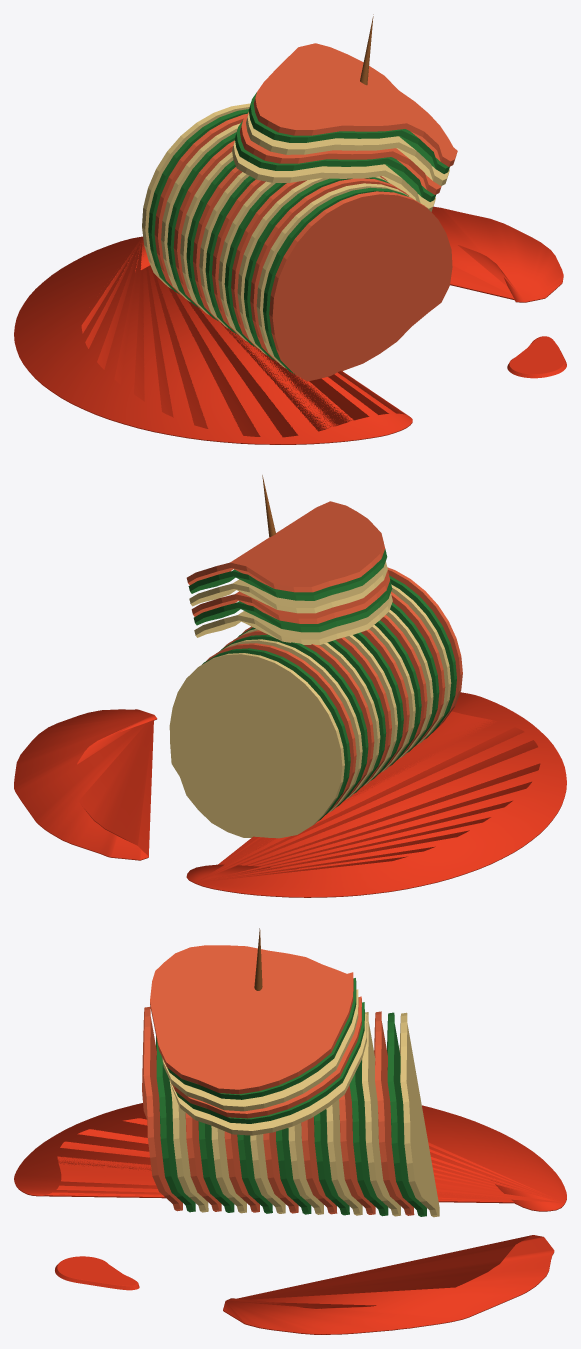
Rendered from food_ratatouille.fbx.
3 renders of one model, top to bottom at view 1: azimuth 30°, elevation 25°; view 2: azimuth 150°, elevation 25°; view 3: azimuth 270°, elevation 25°, orthographic. The views are drawn at different scales.
Visible parts, largest first — view 1: ratatouille_food; view 2: ratatouille_food; view 3: ratatouille_food.
Part boxes in pixels (box(x1,y1,x2,y2)): ratatouille_food: box(14, 14, 566, 444); ratatouille_food: box(14, 475, 566, 897); ratatouille_food: box(14, 928, 566, 1334).
Size of the model in its own units: 0.4195 by 0.2475 by 0.3904.
